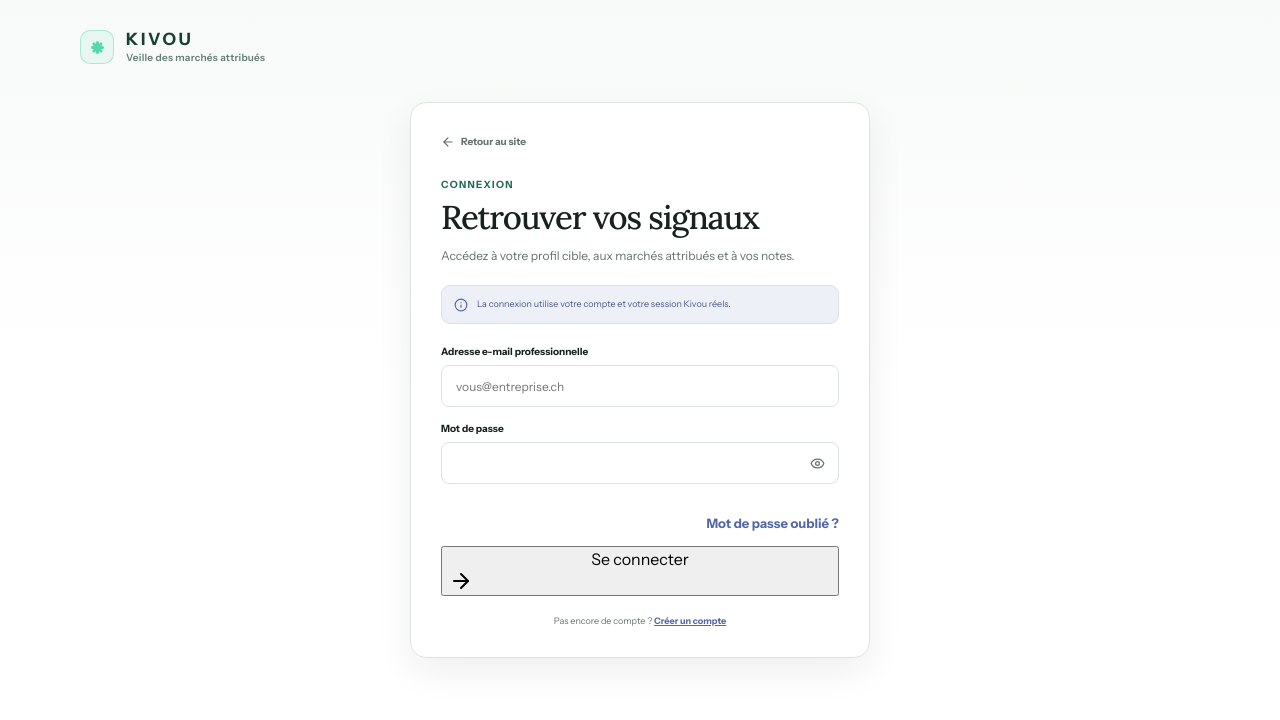
Test: parcours d’entrée de la référence connectée › connecte avec le formulaire de référence et ouvre la vue d’ensemble
Type "test@example.test" into the field labelled "Adresse e-mail professionnelle" at [640, 386], box top-left (441, 365), bottom-right (839, 407)
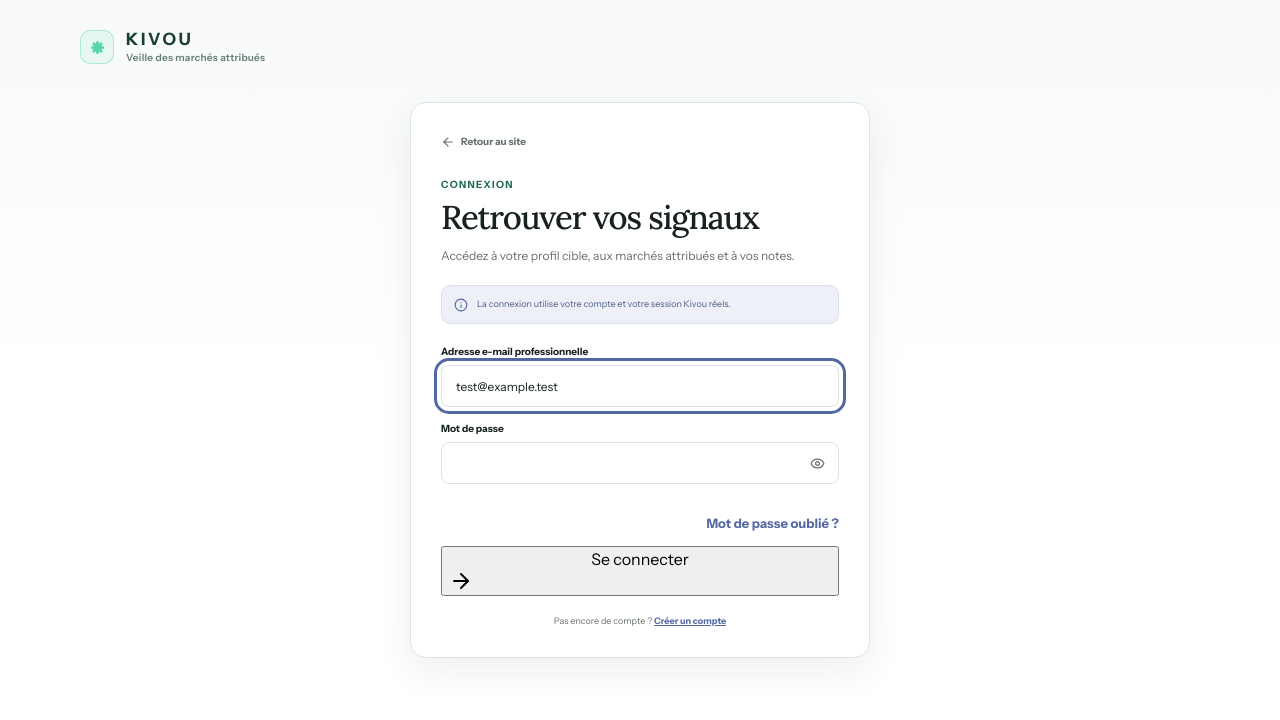
Type "correct-password" into the password field labelled "Mot de passe" at [640, 463], box top-left (441, 442), bottom-right (839, 484)
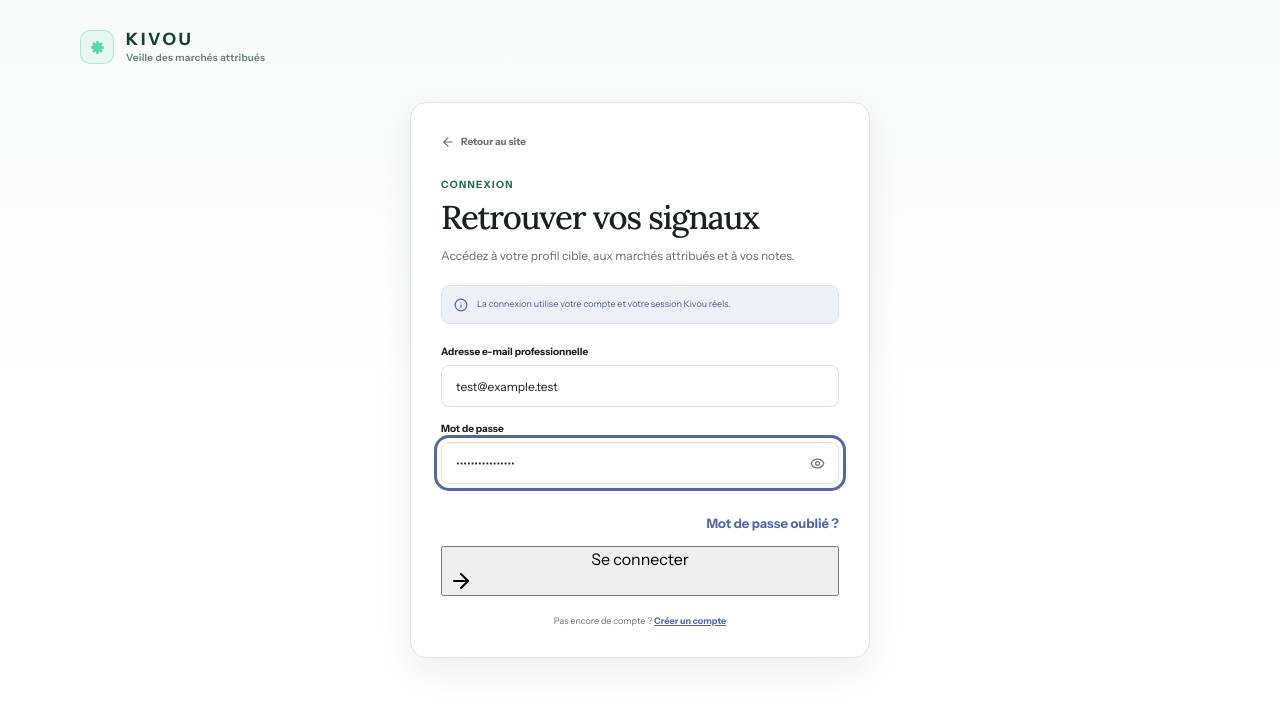
Click the button "Se connecter" at [640, 571], box top-left (441, 546), bottom-right (839, 596)
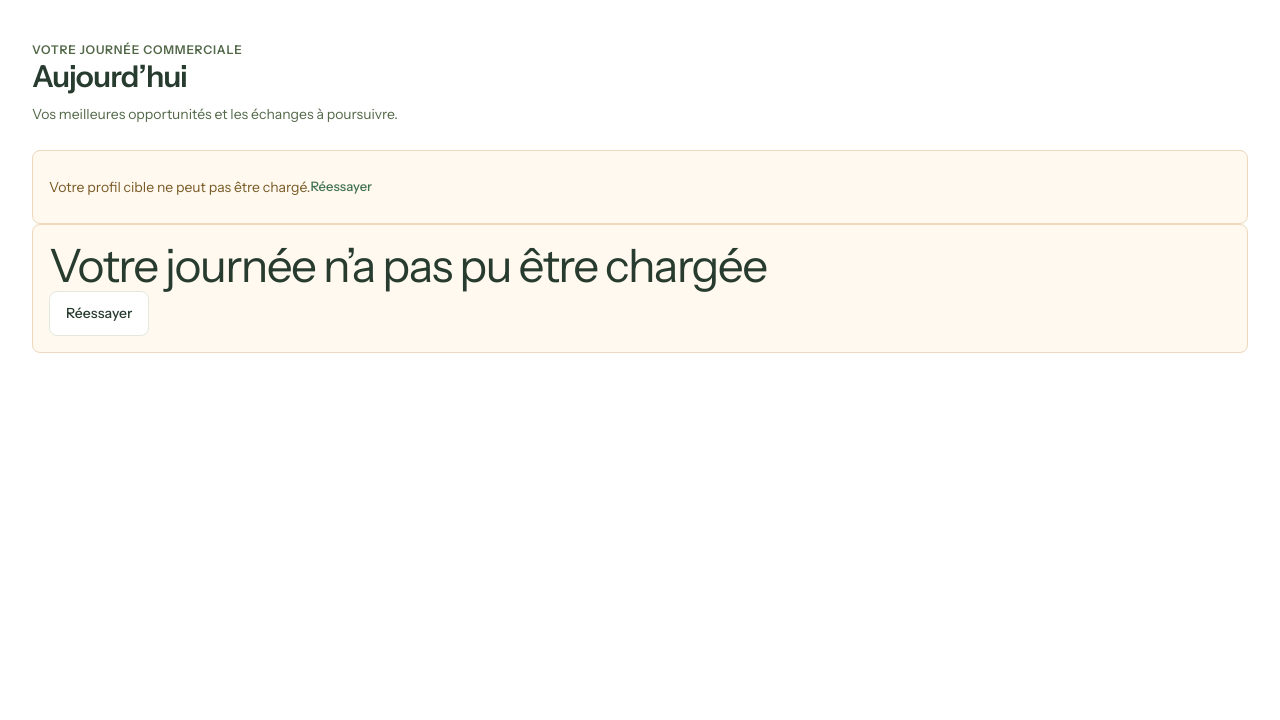
Result: the heading "Aujourd’hui" is shown at top-left (32, 58), bottom-right (187, 95)
